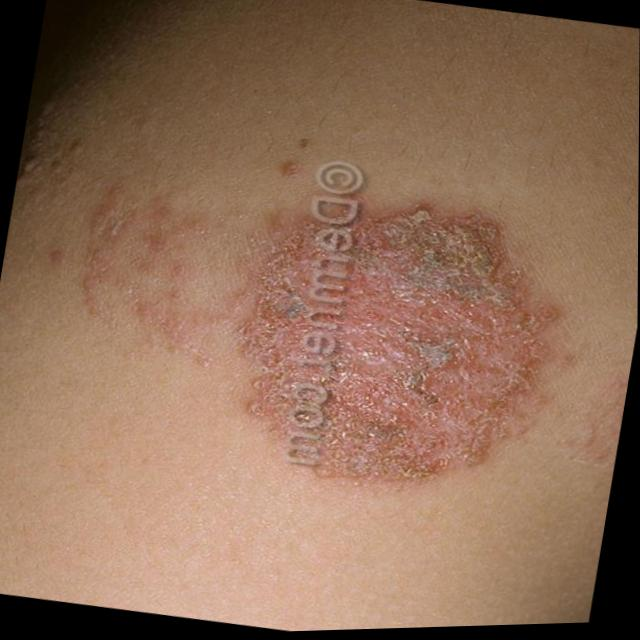Eczema: (122, 156, 551, 535)
